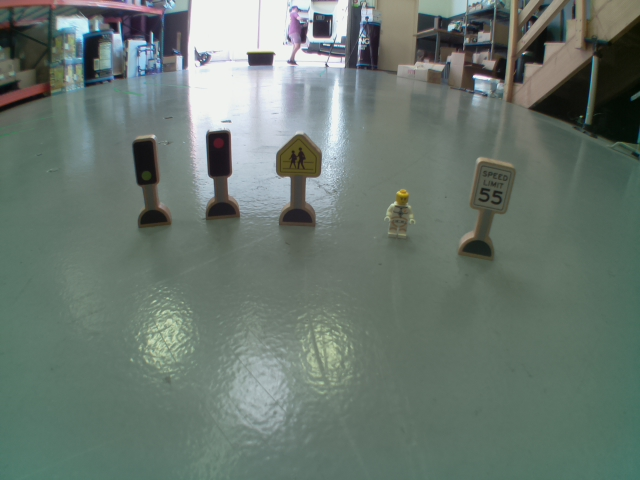Green Traffic Light: (131, 135, 161, 186)
Red Traffic Light: (206, 130, 232, 178)
Speed Limit 55: (471, 155, 510, 212)
YIELD: (275, 134, 324, 179)
person: (381, 187, 416, 240)
